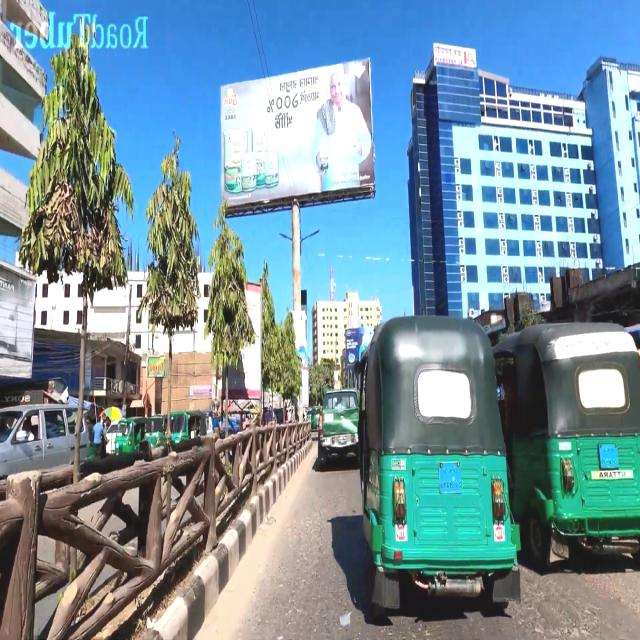silver: (0, 395, 93, 481)
